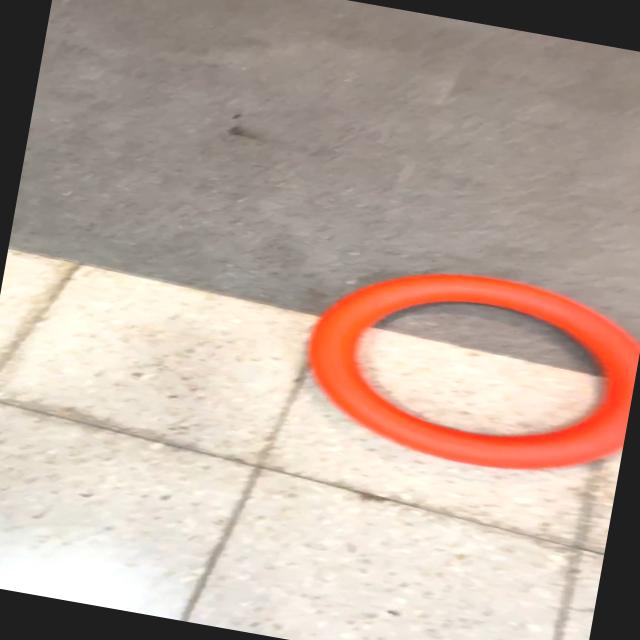note: (289, 246, 640, 492)
